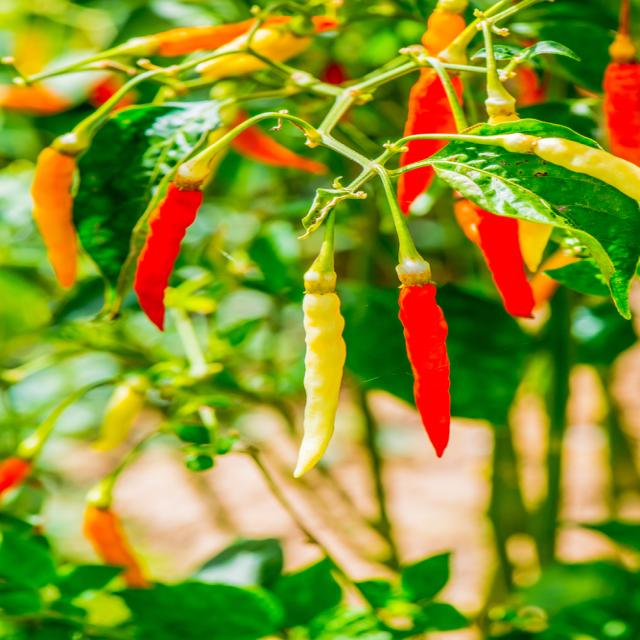Ripe: (133, 184, 202, 329), (397, 68, 459, 217), (399, 285, 450, 457), (30, 148, 77, 288), (475, 206, 534, 317), (603, 63, 639, 166)
Unripe: (294, 292, 345, 477), (534, 138, 640, 201), (518, 220, 553, 272)
